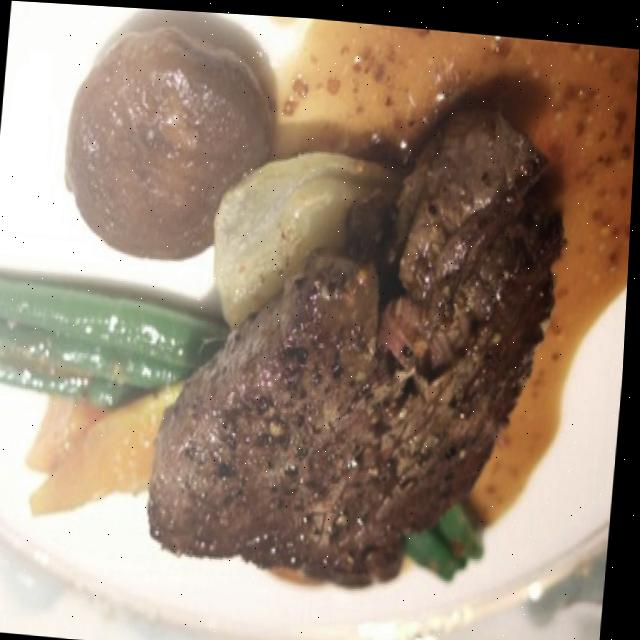牛肉菜式: (142, 92, 552, 599)
